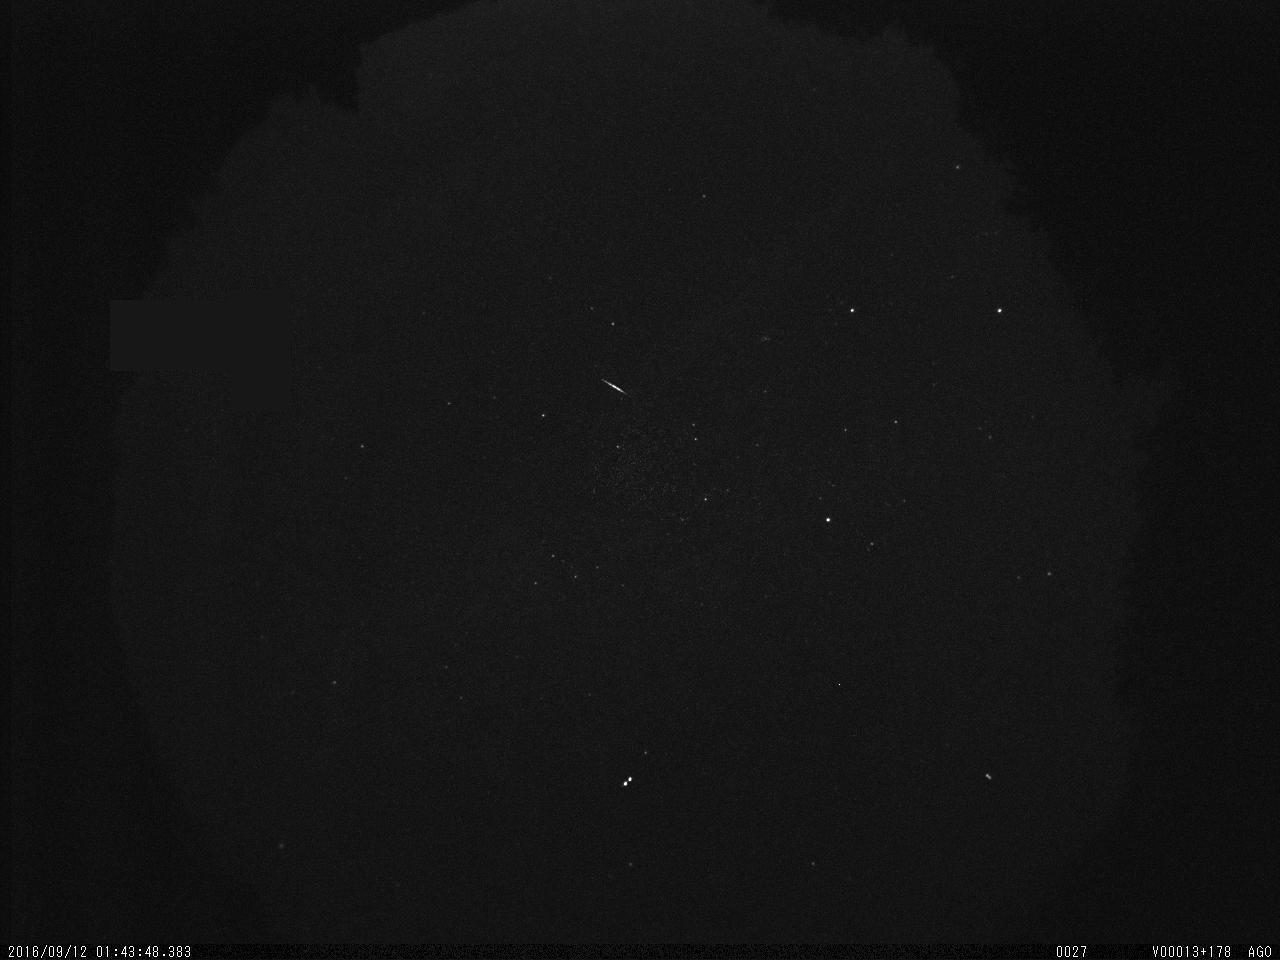meteor: (597, 368, 631, 405)
